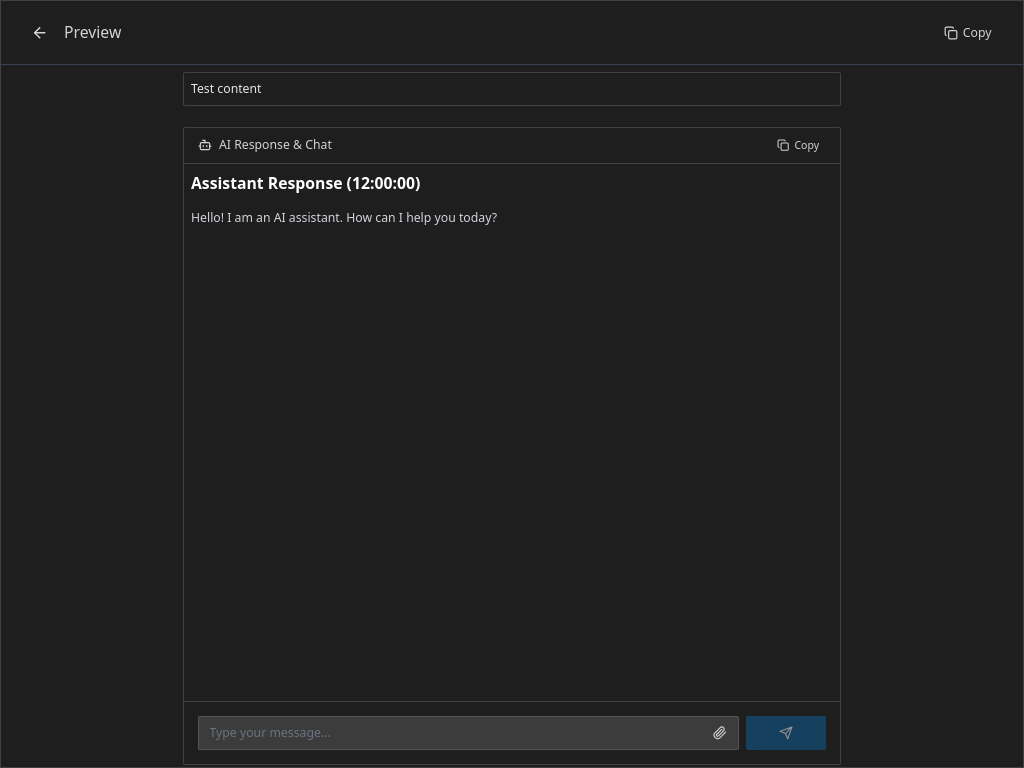
PreviewPage error and chat UI › should render llmResponse chat UI with copy functionality
Check: the heading "AI Response & Chat" is shown, box [219,136,332,154]
Check: the text "Copy" in the row of "AI Response & Chat" is shown, box [794,138,819,152]
Note: Simulate clicking Copy
Step 1. Click the button "Copy" in the row of "AI Response & Chat" → {"x": 798, "y": 145}, box [770,134,826,156]
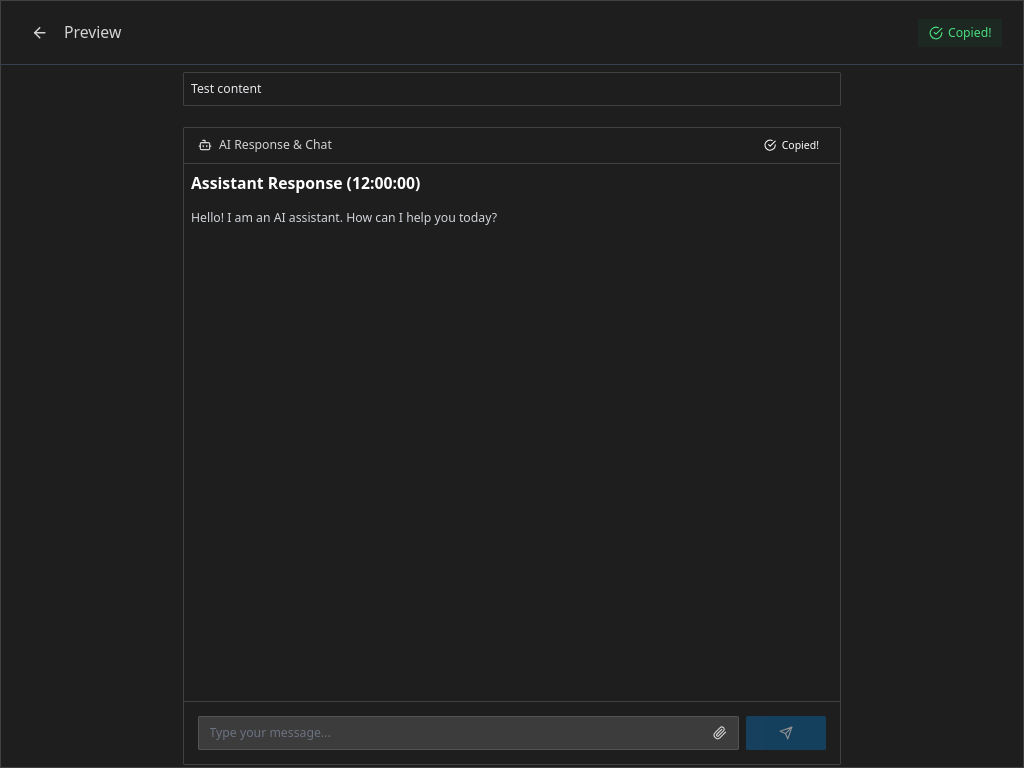
Check: the text "Copied!" in the row of "Preview" is shown, box [948,24,992,41]
